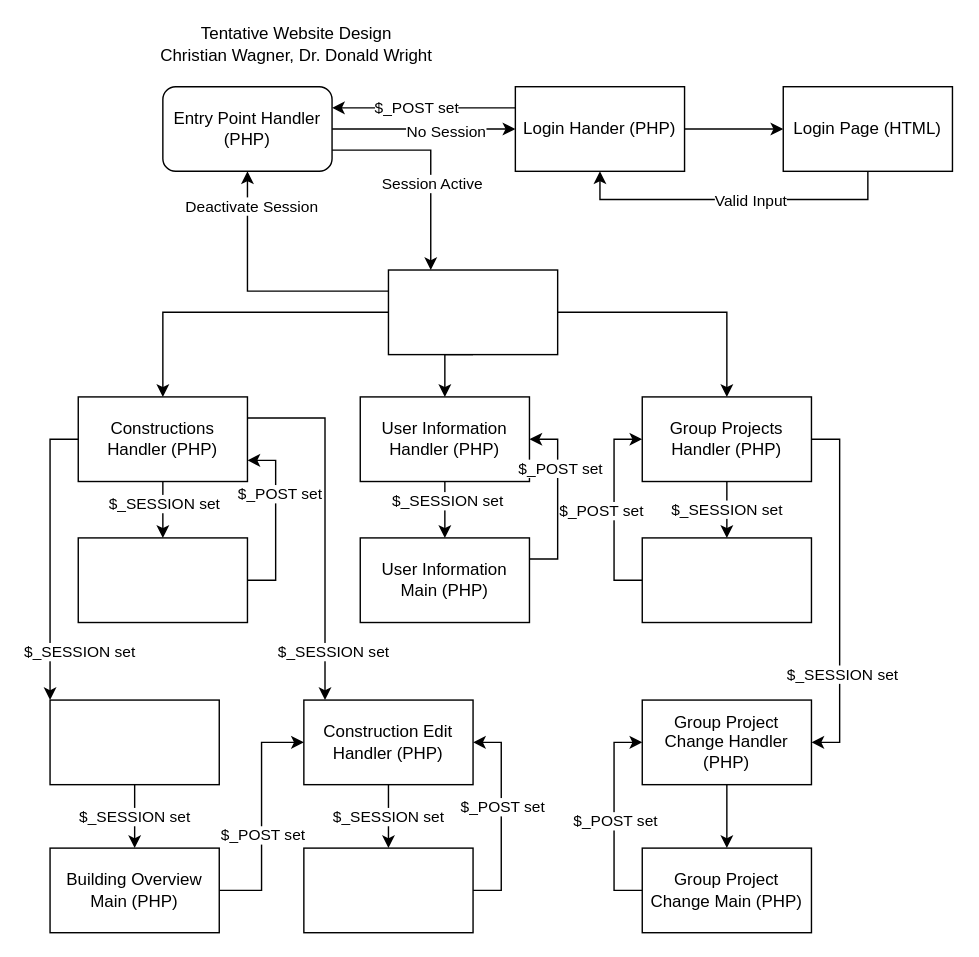
Image size: 979x957. Some labels were removed from this diagram. Each missing label, with the centre of its shape:
Building Overview Handler (PHP): (134,742)
Construction Edit Main (PHP): (387,890)
Constructions Main (PHP): (162,580)
Group Projects Main (PHP): (726,580)
User Information Page (PHP): (472,312)
